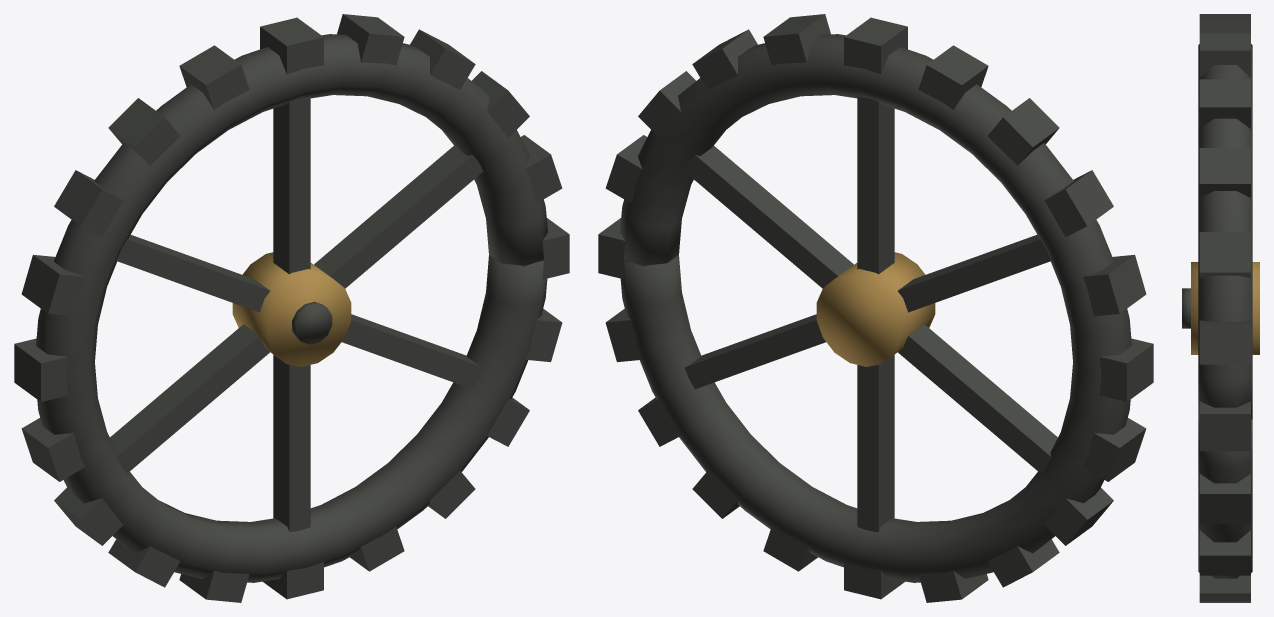
The model's file is b3_gear.glb.
The picture shows the model from 3 angles, left to right: view 1: azimuth 30°, elevation 25°; view 2: azimuth 150°, elevation 25°; view 3: azimuth 270°, elevation 25°; orthographic projection. The views are drawn at different scales.
Parts seen in each view (by area): view 1: b3_gear; view 2: b3_gear; view 3: b3_gear.
Boxes of the visible parts, left/top/right/bottom form: b3_gear: left=14, top=14, right=569, bottom=602; b3_gear: left=598, top=14, right=1153, bottom=602; b3_gear: left=1182, top=14, right=1259, bottom=602.
Size of the model in its own units: 4 by 4 by 0.53.
